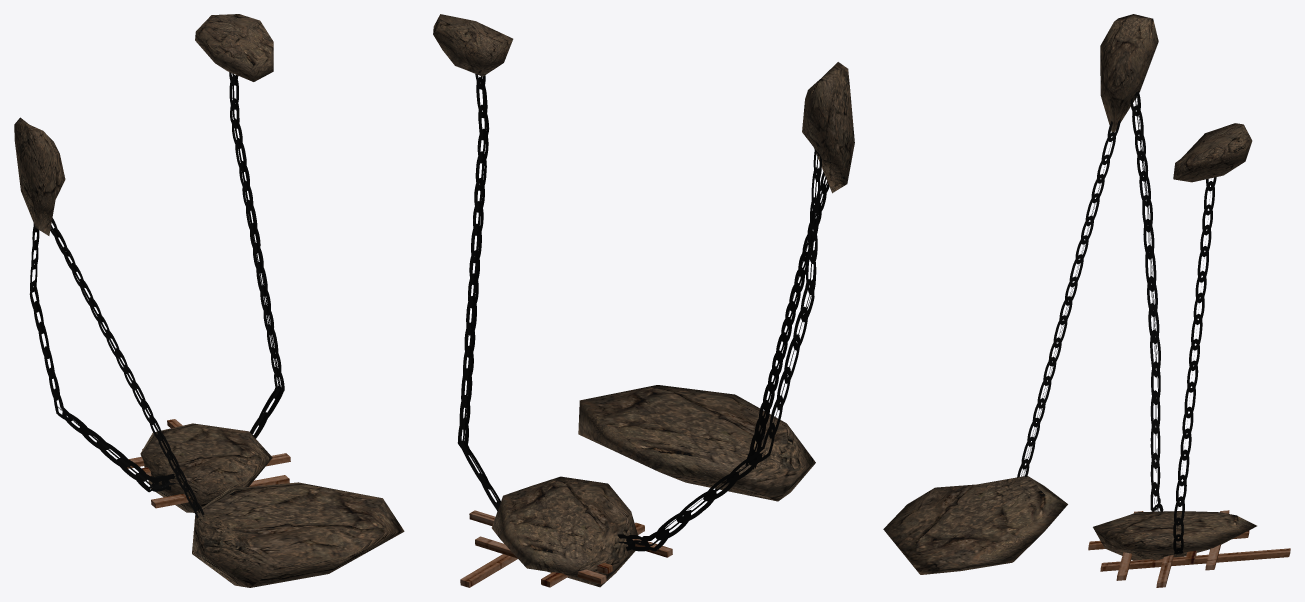
The model's file is Spooky_Rock_BridgeSection_Art.fbx.
3 renders of one model, left to right at view 1: azimuth 30°, elevation 25°; view 2: azimuth 150°, elevation 25°; view 3: azimuth 270°, elevation 25°, orthographic. The views are drawn at different scales.
Parts seen in each view (by area): view 1: Spooky_Rock_BridgeSection_Art; view 2: Spooky_Rock_BridgeSection_Art; view 3: Spooky_Rock_BridgeSection_Art.
Part boxes in pixels (<box>): Spooky_Rock_BridgeSection_Art: <box>14,14,404,587</box>; Spooky_Rock_BridgeSection_Art: <box>433,14,854,587</box>; Spooky_Rock_BridgeSection_Art: <box>883,14,1290,587</box>.
Size of the model in its own units: 697 by 1039 by 821.
